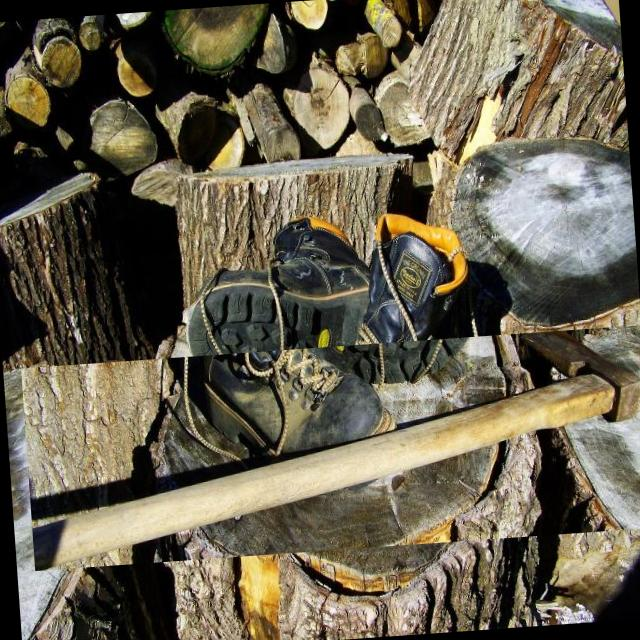Axe: (33, 330, 640, 570)
